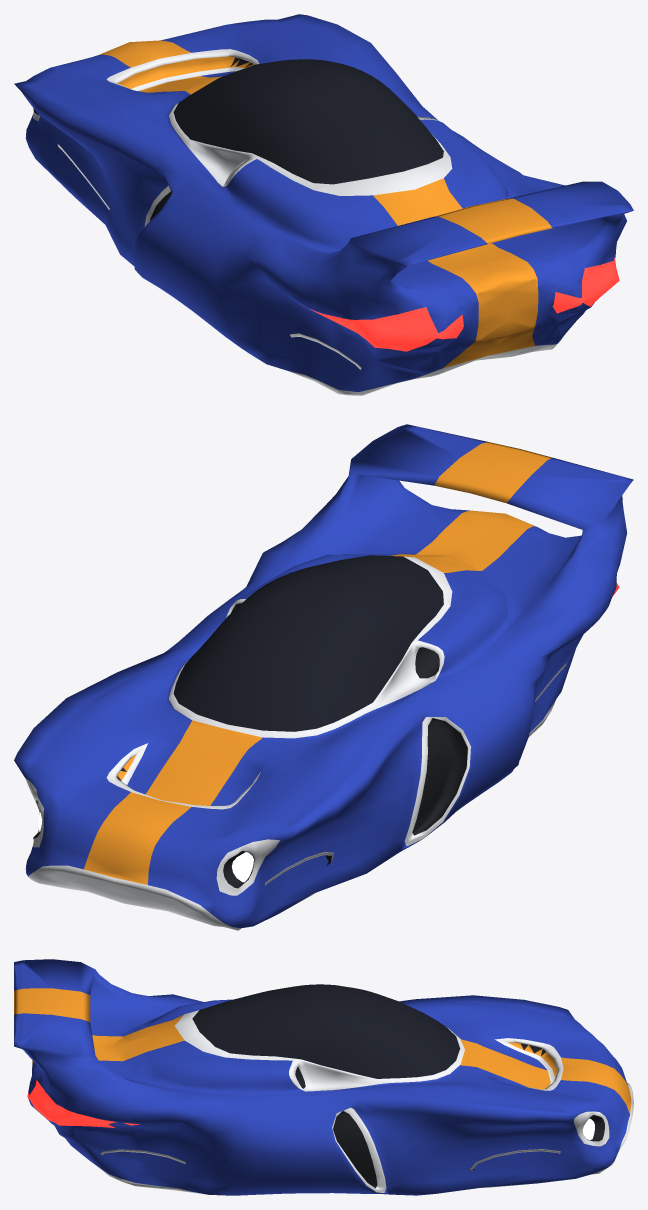
File: r4-frame.glb
3 views of the same model, one above another, from view 1: azimuth 30°, elevation 25°; view 2: azimuth 150°, elevation 25°; view 3: azimuth 270°, elevation 25° (orthographic). The views are drawn at different scales.
Parts seen in each view (by area): view 1: Body.001, Canopy; view 2: Body.001, Canopy; view 3: Body.001, Canopy, Sockets.
Boxes of the visible parts, x1,y1,x2,y2 form: Body.001: [14, 14, 633, 395]; Canopy: [173, 59, 443, 184]; Body.001: [14, 424, 633, 930]; Canopy: [173, 555, 443, 731]; Body.001: [14, 959, 633, 1195]; Canopy: [192, 984, 460, 1078]; Sockets: [100, 1149, 560, 1171].
Bounding box in the file's own units: 1.89 × 1.13 × 4.01.
